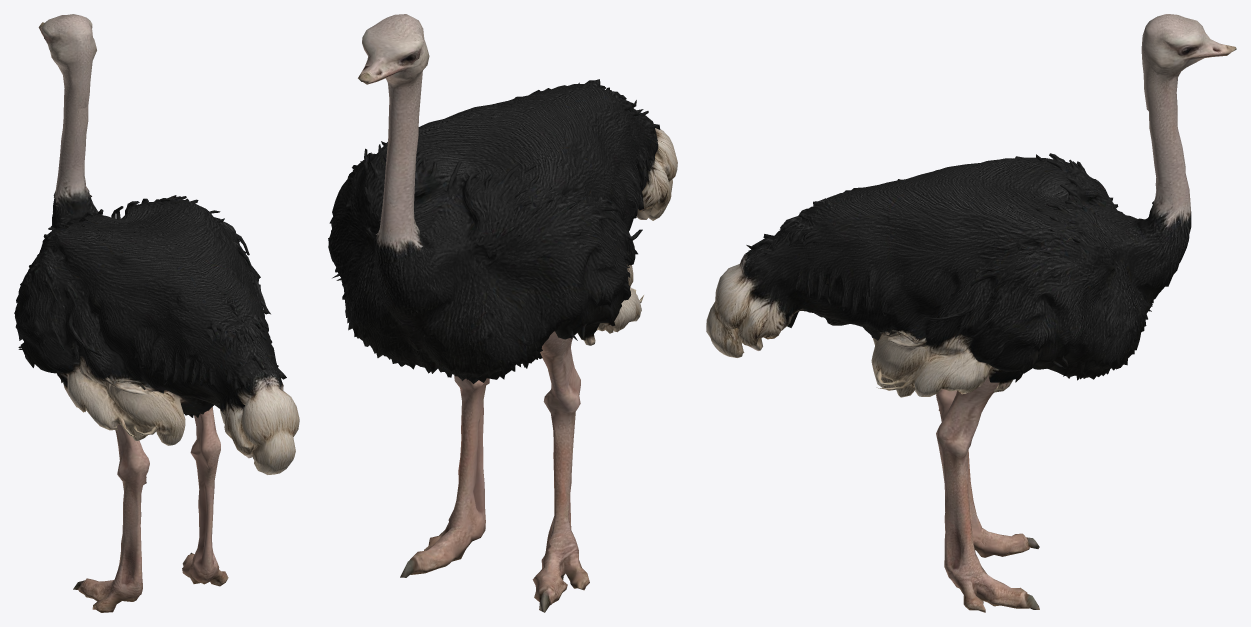
Rendered from ostrich.glb.
The picture shows the model from 3 angles, left to right: view 1: azimuth 30°, elevation 25°; view 2: azimuth 150°, elevation 25°; view 3: azimuth 270°, elevation 25°; orthographic projection. The views are drawn at different scales.
Visible parts, largest first — view 1: tripo_node_7f0ef07f-39e7-47d9-9294-6b9ad1534029; view 2: tripo_node_7f0ef07f-39e7-47d9-9294-6b9ad1534029; view 3: tripo_node_7f0ef07f-39e7-47d9-9294-6b9ad1534029.
Part boxes in pixels (x1,y1,x2,y2): tripo_node_7f0ef07f-39e7-47d9-9294-6b9ad1534029: (14, 14, 299, 612); tripo_node_7f0ef07f-39e7-47d9-9294-6b9ad1534029: (328, 14, 677, 612); tripo_node_7f0ef07f-39e7-47d9-9294-6b9ad1534029: (706, 14, 1236, 612).
Size of the model in its own units: 0.4672 by 1 by 0.8541.
1 material, 1 textured.
